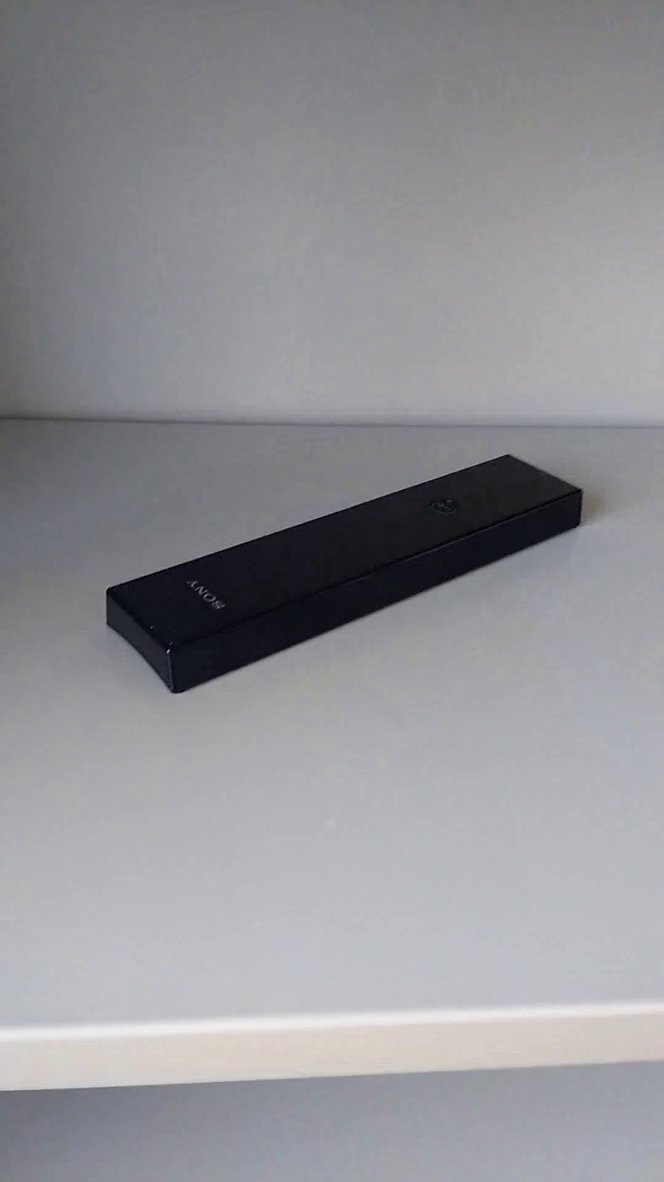remote: (94, 439, 599, 707)
